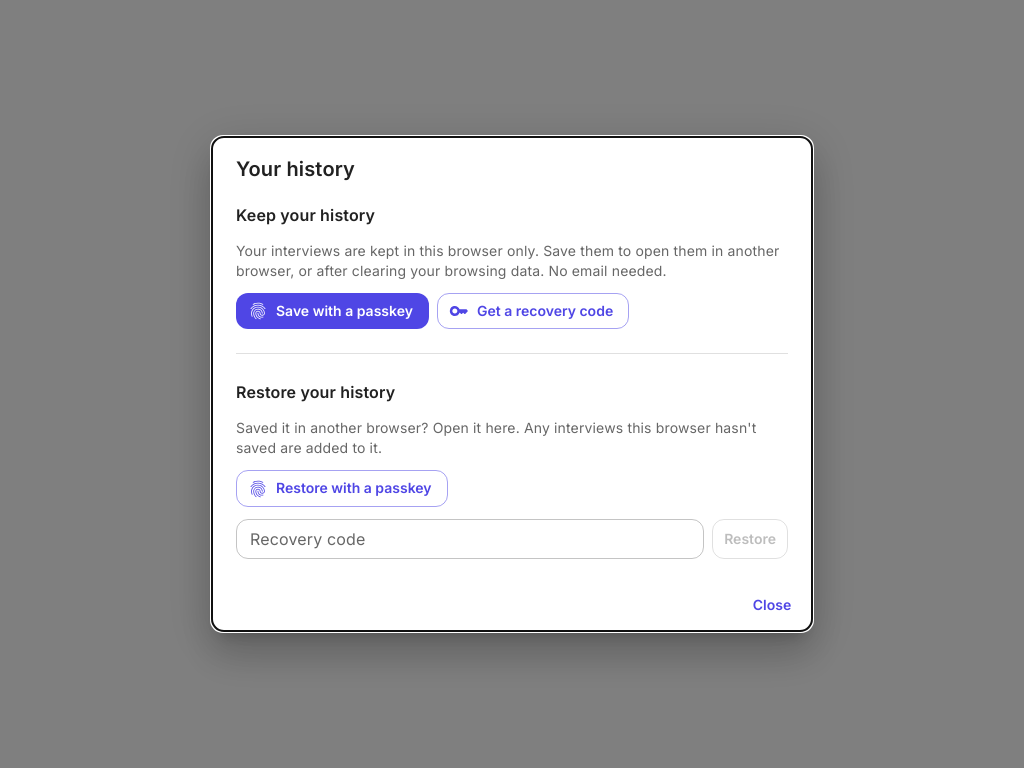
Scenario: AccountDialog › saves the history with a recovery code, shown once
This screenshot has width=1024, height=768.
Expected: the text "kept in this browser only" is shown, [236, 242, 780, 279]
Step 1. Click the button "Get a recovery code" → (533, 311), box [437, 293, 629, 329]
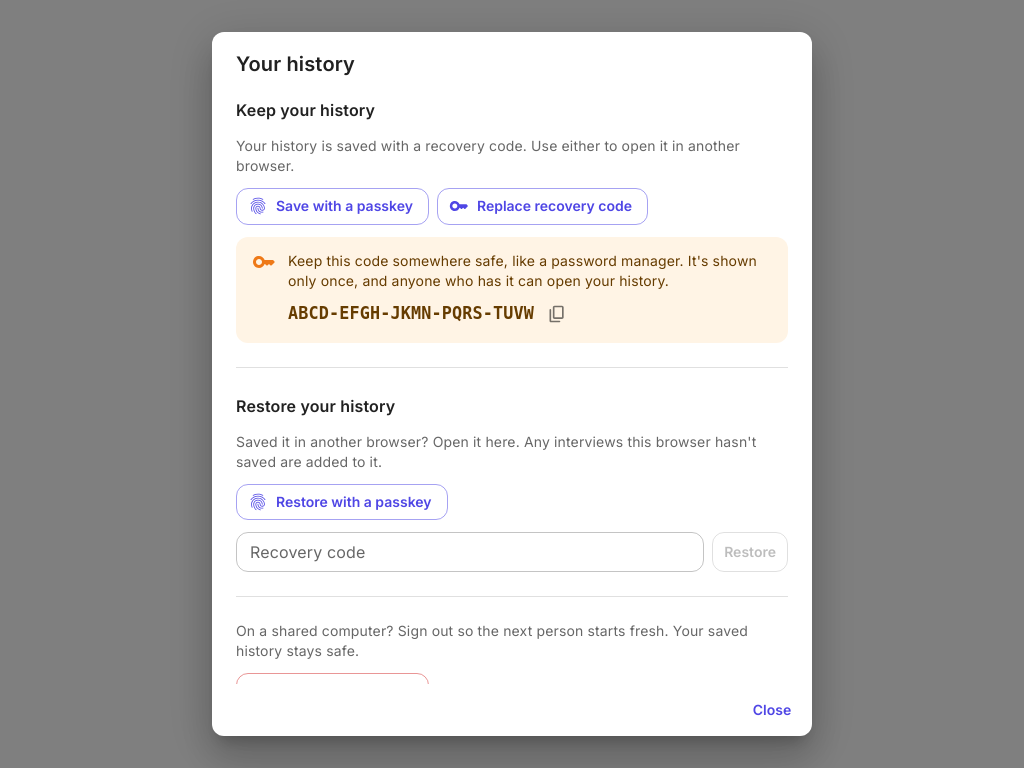
Expected: the text "ABCD-EFGH-JKMN-PQRS-TUVW" is shown, [288, 301, 534, 326]
Expected: the text "saved with a recovery code" is shown, [236, 137, 740, 174]
